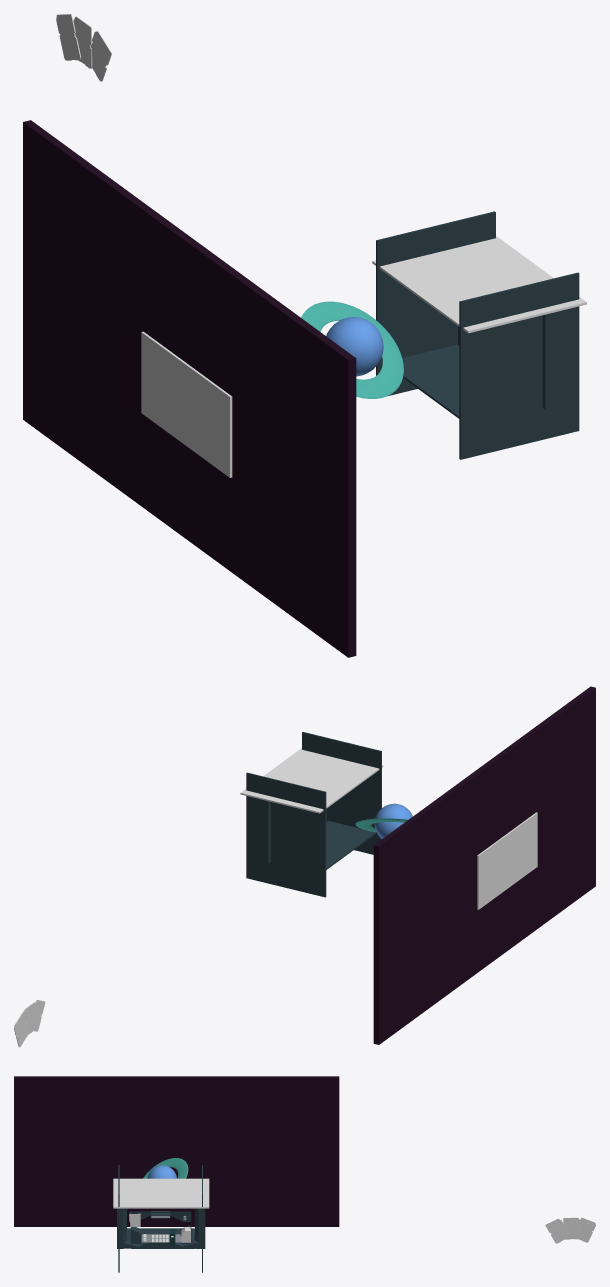
The model's file is Project Show me Assets Test.fbx.
3 renders of one model, top to bottom at view 1: azimuth 30°, elevation 25°; view 2: azimuth 150°, elevation 25°; view 3: azimuth 270°, elevation 25°, orthographic. The views are drawn at different scales.
Parts seen in each view (by area): view 1: Cube.019, Cube.037, Cube.035, Cube.036, Cube.011, Torus, Cube.018, Sphere.001; view 2: Cube.019, Cube.036, Cube.035, Cube.037, Cube.011, Cube.018, Sphere.001; view 3: Cube.019, Cube.035, Plane.003, Torus, Card.078, Cube.018, Plane.006, Card.077, Sphere.001, Card.076.
Boxes of the visible parts, x1,y1,x2,y2 form: Cube.019: (23, 120, 356, 657); Cube.037: (459, 272, 579, 459); Cube.035: (372, 236, 586, 333); Cube.036: (376, 211, 495, 396); Cube.011: (141, 331, 232, 477); Torus: (301, 301, 403, 398); Cube.018: (402, 345, 459, 418); Sphere.001: (326, 317, 383, 376); Cube.019: (373, 686, 595, 1044); Cube.036: (246, 772, 326, 897); Cube.035: (240, 748, 383, 813); Cube.037: (302, 732, 381, 854); Cube.011: (477, 812, 537, 909); Cube.018: (326, 820, 375, 869); Sphere.001: (374, 803, 412, 838); Cube.019: (14, 1076, 339, 1226); Cube.035: (113, 1178, 209, 1208); Plane.003: (117, 1208, 205, 1248); Torus: (143, 1158, 188, 1178); Card.078: (545, 1218, 570, 1243); Cube.018: (127, 1228, 194, 1243); Plane.006: (129, 1211, 191, 1221); Card.077: (563, 1217, 580, 1239); Sphere.001: (147, 1165, 176, 1178); Card.076: (579, 1217, 595, 1242).
Size of the model in its own units: 35581 by 28633 by 101457.
